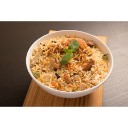briyani: (35, 38, 104, 88)
